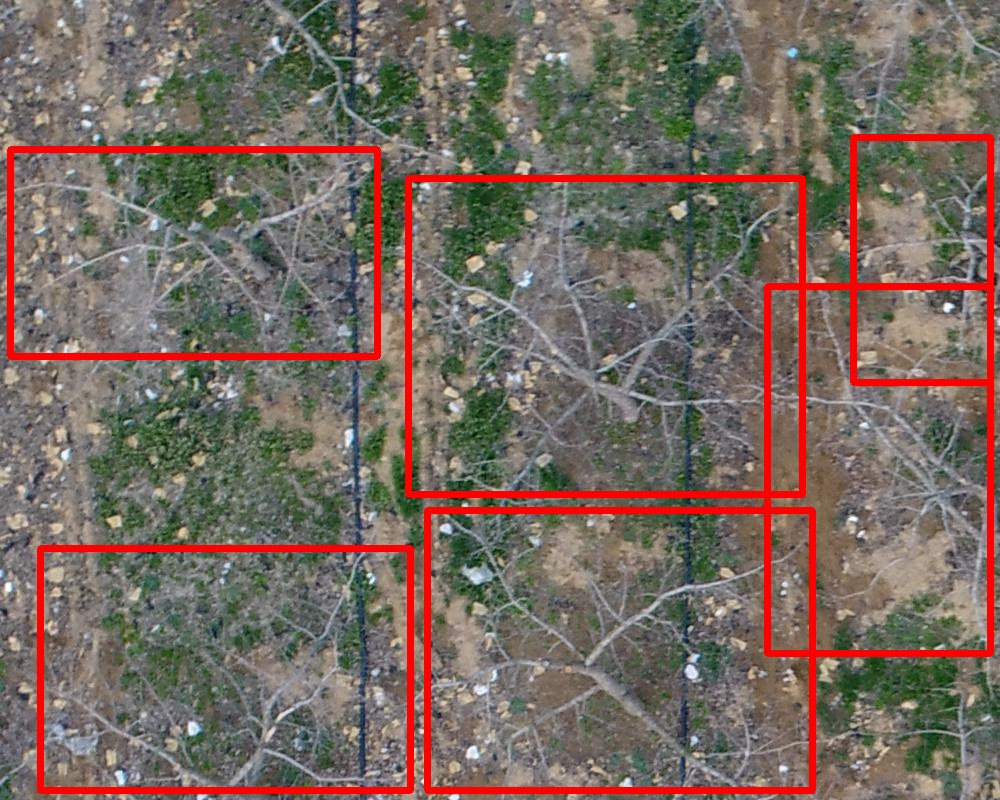apple: (408, 178, 802, 494), (427, 510, 812, 790), (40, 548, 410, 790), (767, 286, 990, 653), (10, 149, 377, 356), (853, 137, 990, 382)
